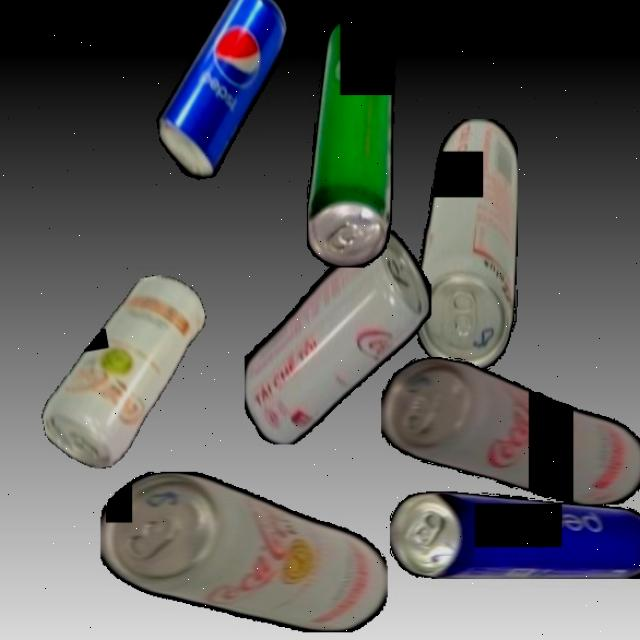debris: (100, 471, 388, 632), (22, 269, 228, 476), (244, 230, 432, 444), (381, 356, 640, 505), (137, 0, 310, 185), (415, 118, 518, 370), (306, 12, 396, 268), (390, 490, 640, 579)
